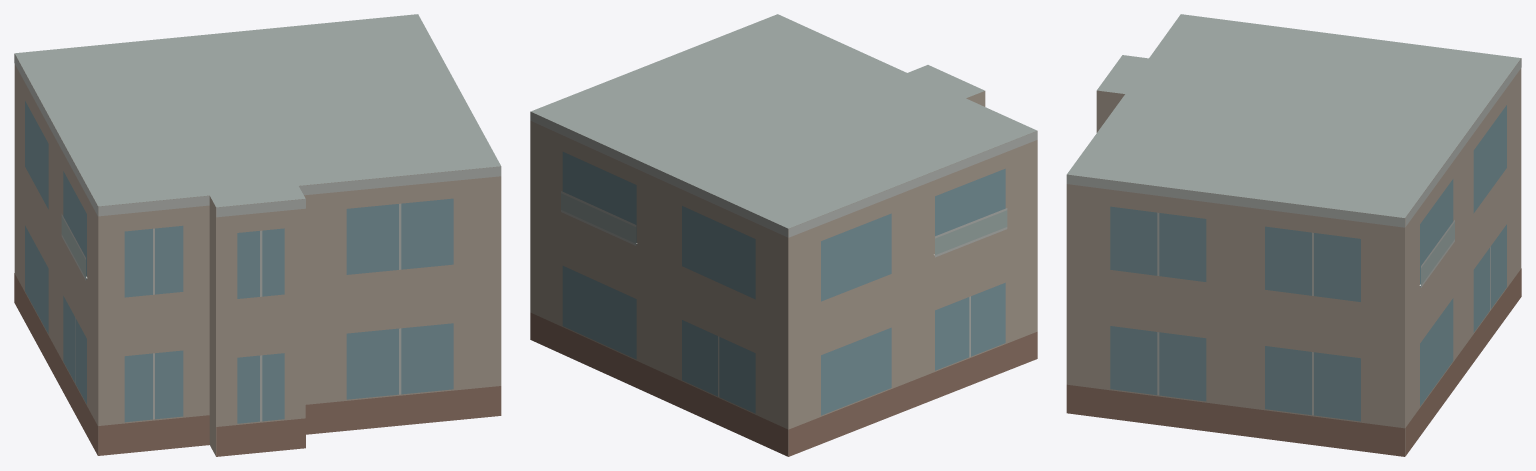
File: survey-upis-32734170.glb
3 views of the same model, side by side, from view 1: azimuth 30°, elevation 25°; view 2: azimuth 150°, elevation 25°; view 3: azimuth 270°, elevation 25° (orthographic). The views are drawn at different scales.
Parts seen in each view (by area): view 1: survey-upis-32734170.tmp; view 2: survey-upis-32734170.tmp; view 3: survey-upis-32734170.tmp.
Boxes of the visible parts, x1=… form: survey-upis-32734170.tmp: x1=14, y1=14, x2=501, y2=456; survey-upis-32734170.tmp: x1=530, y1=14, x2=1037, y2=456; survey-upis-32734170.tmp: x1=1066, y1=14, x2=1521, y2=456.
Size of the model in its own units: 11.2 by 6.1 by 10.54.
